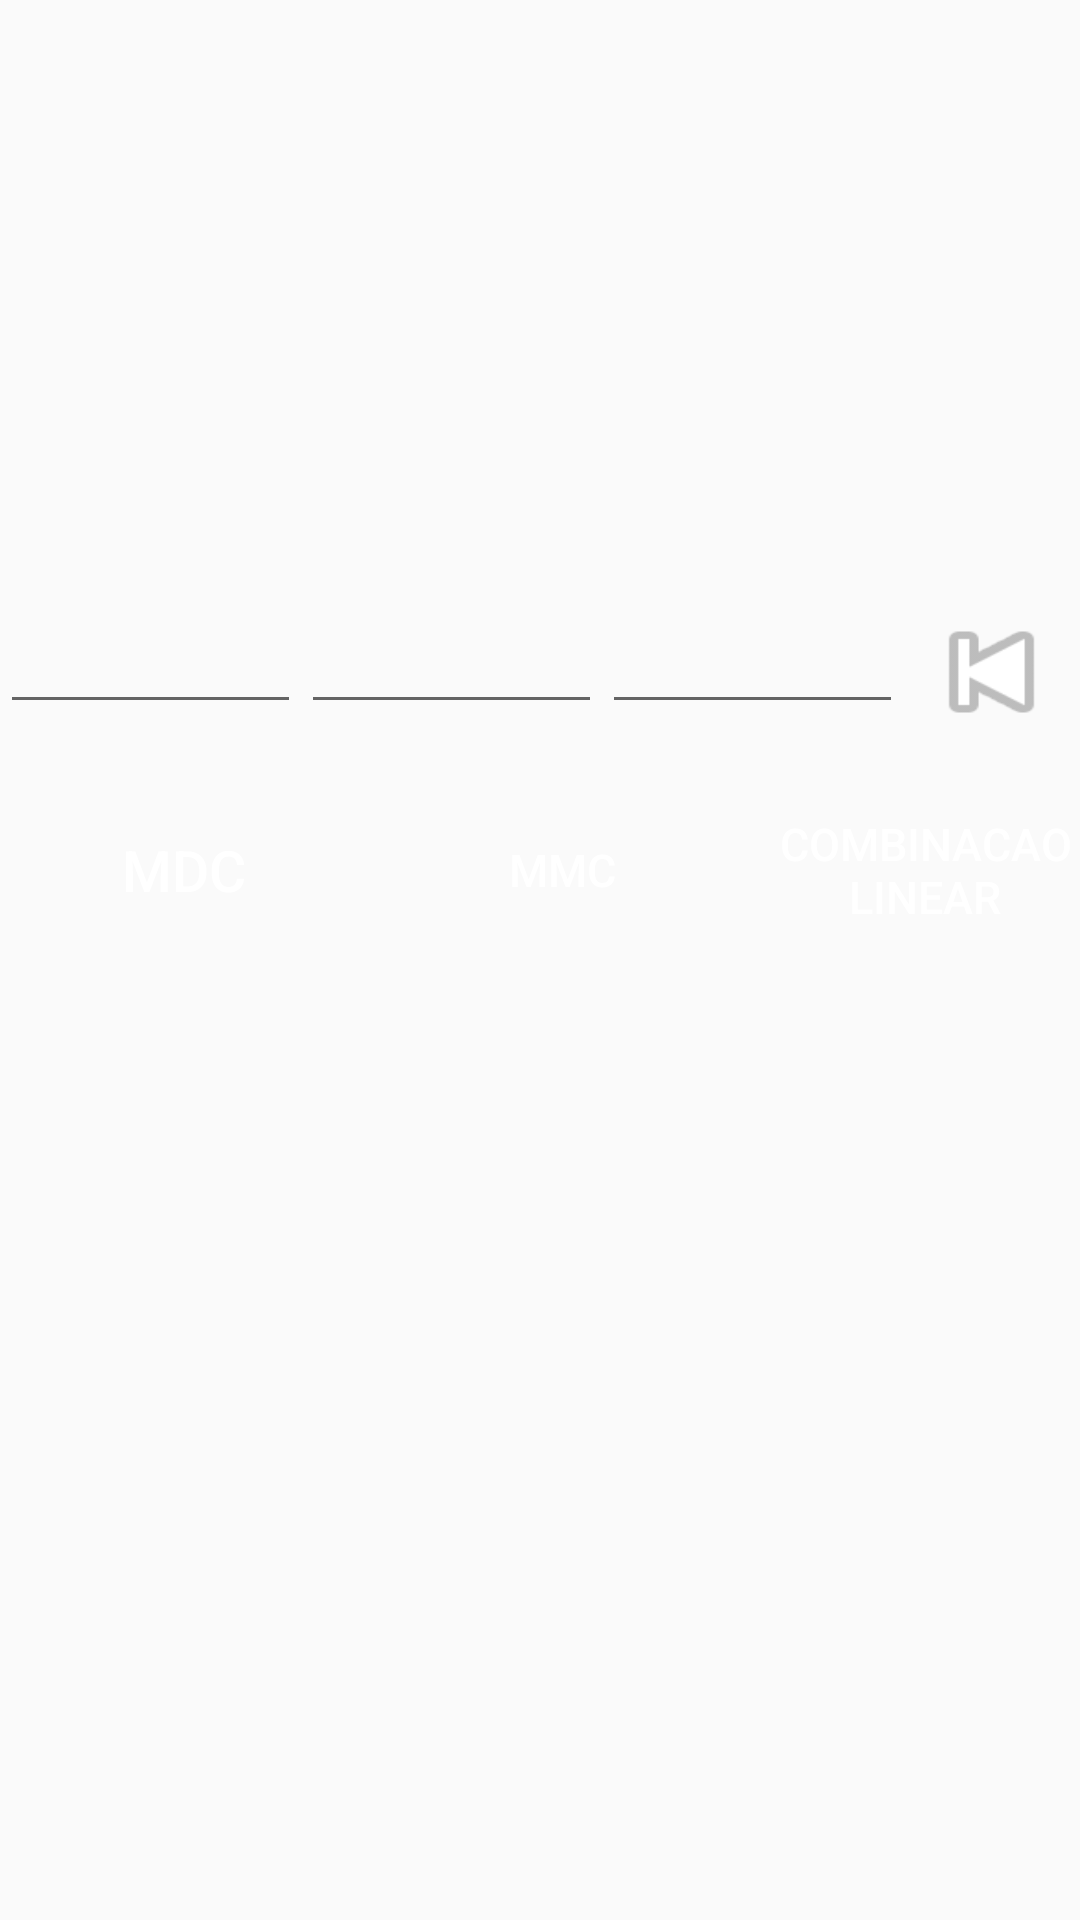

Screen size 1080*1920. Icon name, then its box in pixels as (x1, y1, x2, y2):
previous: (949, 631, 1034, 713)
